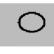no answer: (14, 10, 50, 35)
